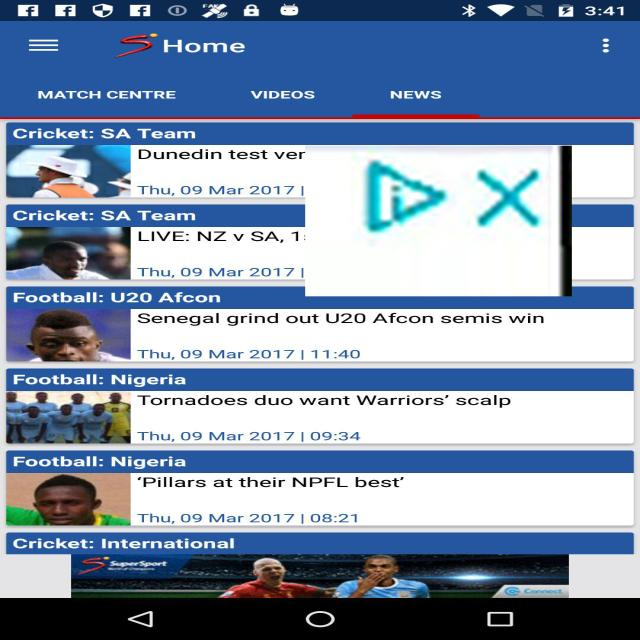sneaking: (305, 146, 572, 296)
